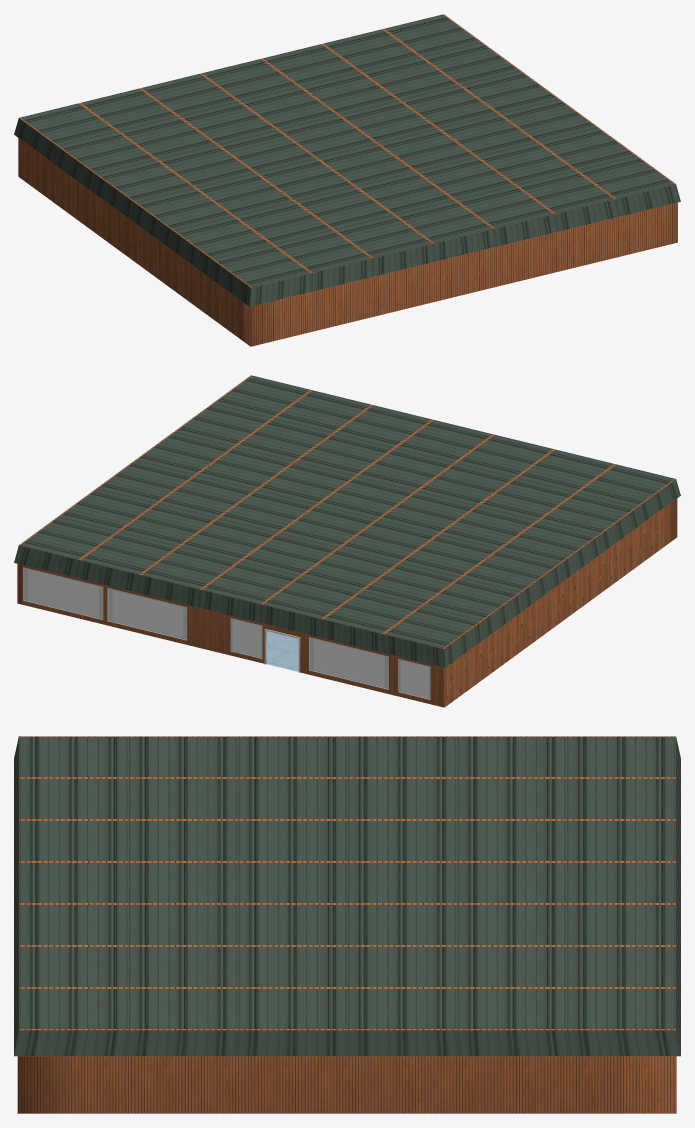
The model's file is Kjiwi.glb.
3 views of the same model, one above another, from view 1: azimuth 30°, elevation 25°; view 2: azimuth 150°, elevation 25°; view 3: azimuth 270°, elevation 25° (orthographic). The views are drawn at different scales.
Parts seen in each view (by area): view 1: Kjiwi; view 2: Kjiwi, Vindu; view 3: Kjiwi.
Part boxes in pixels (x1,y1,x2,y2): Kjiwi: (14, 14, 680, 346); Kjiwi: (14, 375, 680, 707); Vindu: (28, 569, 428, 697); Kjiwi: (14, 736, 680, 1113).
Bounding box in the file's own units: 262 × 34 × 248.
5 materials, 4 textured.
